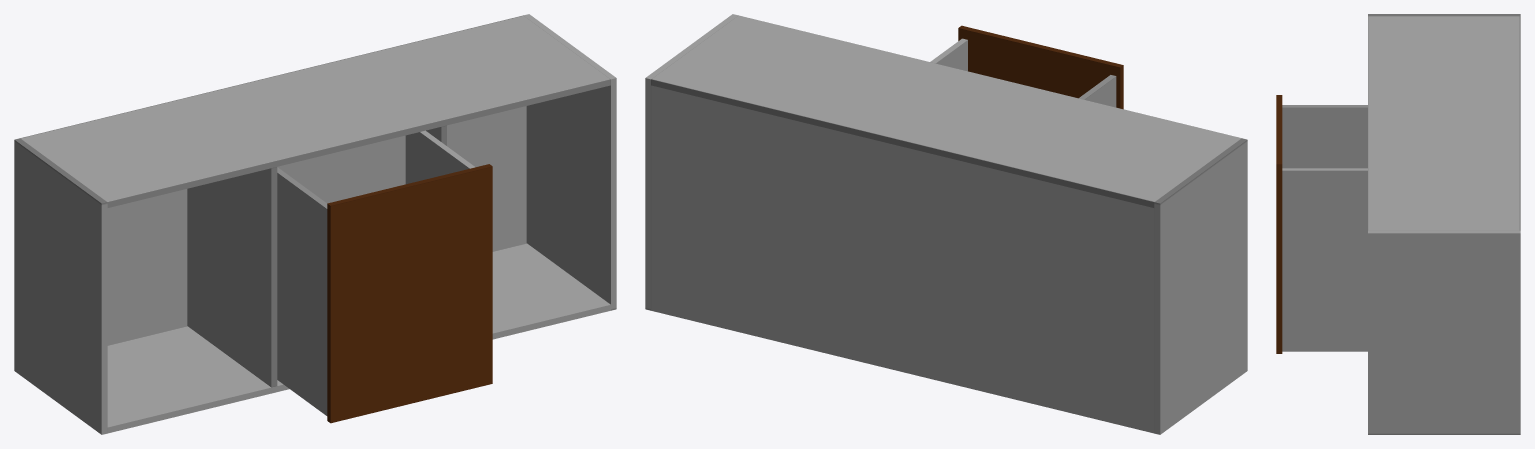
File: meuble_690c0b9bda878.glb
3 views of the same model, side by side, from view 1: azimuth 30°, elevation 25°; view 2: azimuth 150°, elevation 25°; view 3: azimuth 270°, elevation 25° (orthographic). The views are drawn at different scales.
Visible parts, largest first — view 1: world; view 2: world; view 3: world.
Boxes of the visible parts, x1=… form: world: x1=14, y1=14, x2=616, y2=434; world: x1=645, y1=14, x2=1247, y2=434; world: x1=1276, y1=14, x2=1520, y2=434.
Bounding box in the file's own units: 1.7 × 0.73 × 0.8.
1 material, 1 textured.
